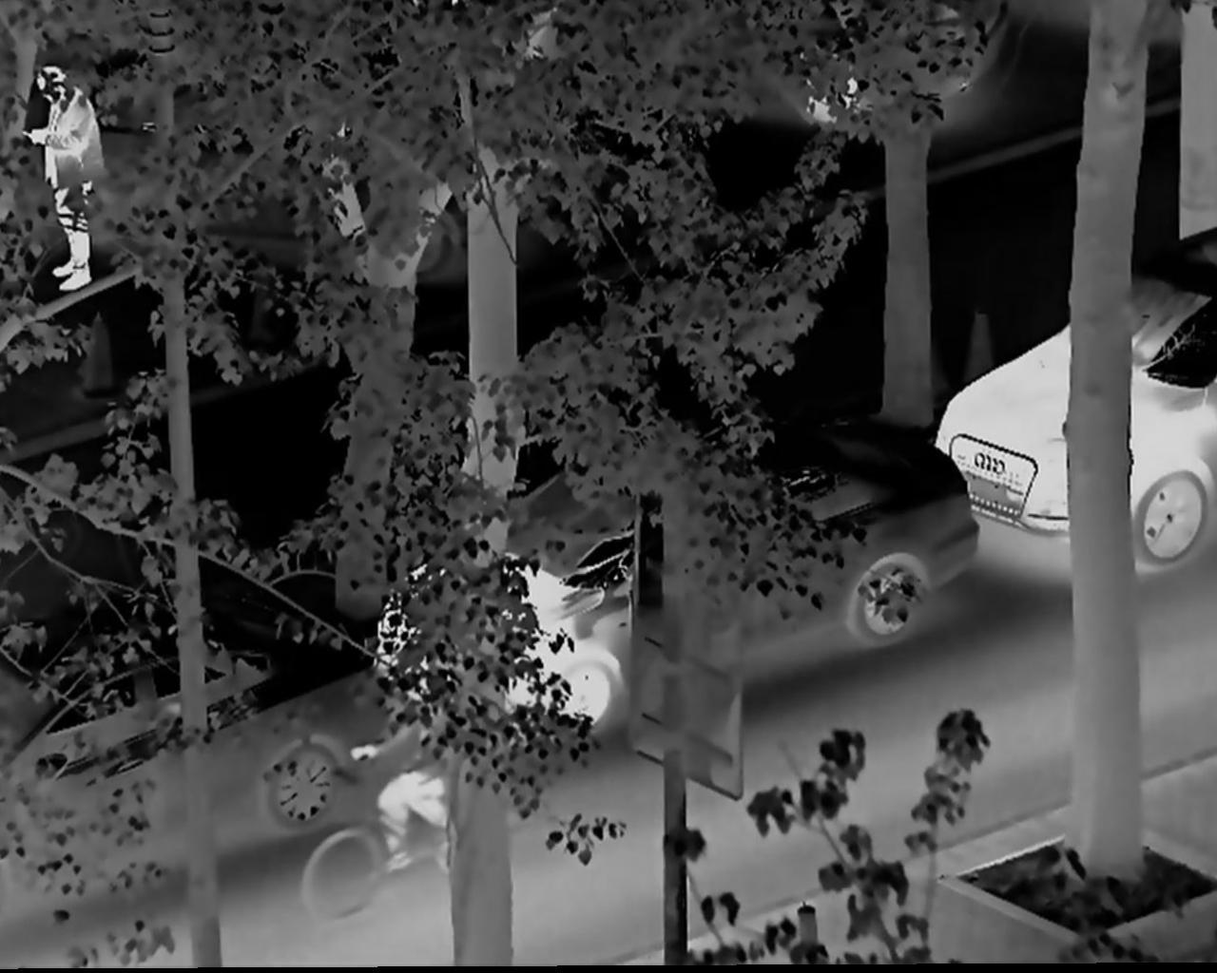person: (332, 670, 473, 887), (26, 71, 107, 296)
